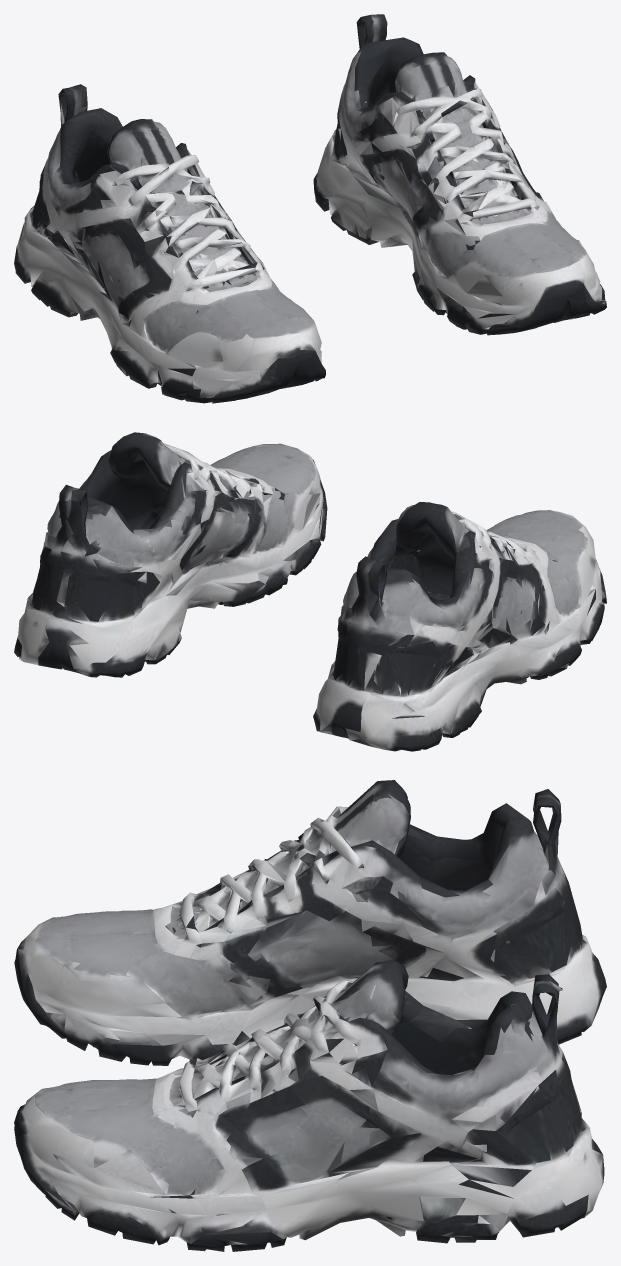
The model's file is shoes_trainers.glb.
3 renders of one model, top to bottom at view 1: azimuth 30°, elevation 25°; view 2: azimuth 150°, elevation 25°; view 3: azimuth 270°, elevation 25°, orthographic. The views are drawn at different scales.
Parts seen in each view (by area): view 1: trainers; view 2: trainers; view 3: trainers.
Part boxes in pixels (box(x1,y1,x2,y2)): trainers: box(14, 14, 606, 403); trainers: box(14, 432, 606, 751); trainers: box(14, 780, 606, 1251).
Size of the model in its own units: 0.3038 by 0.1262 by 0.2791.
Materials: 1 (1 with a texture image).
